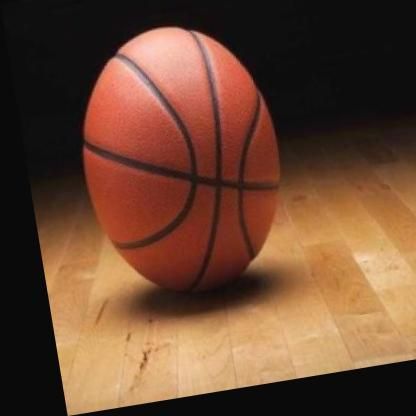basketball: (58, 17, 297, 323)
